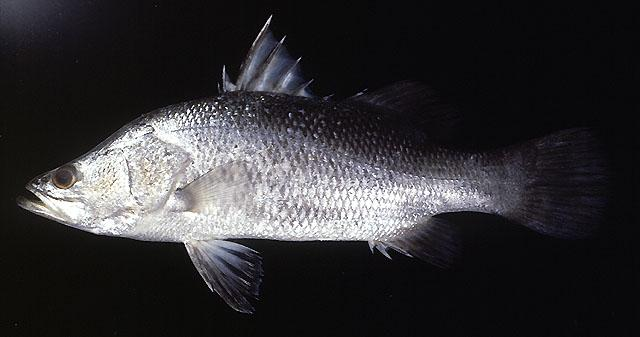Mulut: (5, 166, 73, 244)
Sirip Anal: (358, 208, 449, 276)
Sirip Dada: (153, 151, 281, 226)
Sirip Ekor: (482, 114, 618, 268)
Sirip Perut: (178, 231, 278, 319)
Sirip Punggung: (209, 11, 411, 144)
